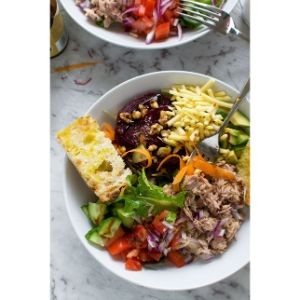tuna_brain food: (160, 154, 245, 270)
